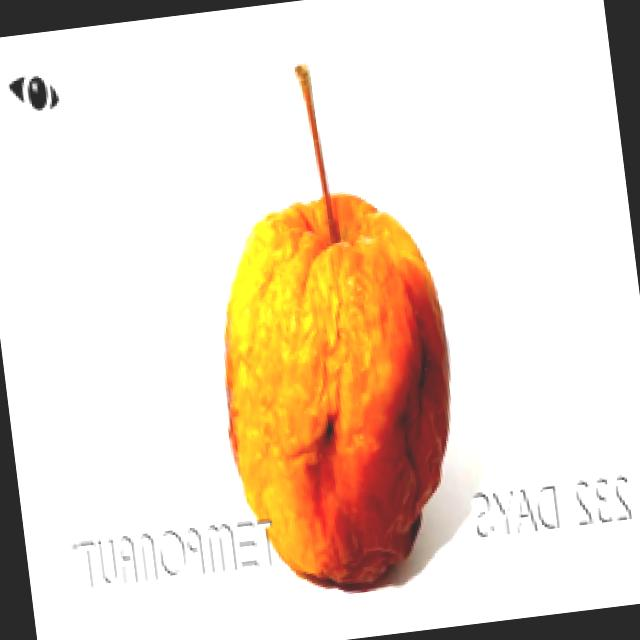Rotten_Apple: (164, 28, 484, 603)
